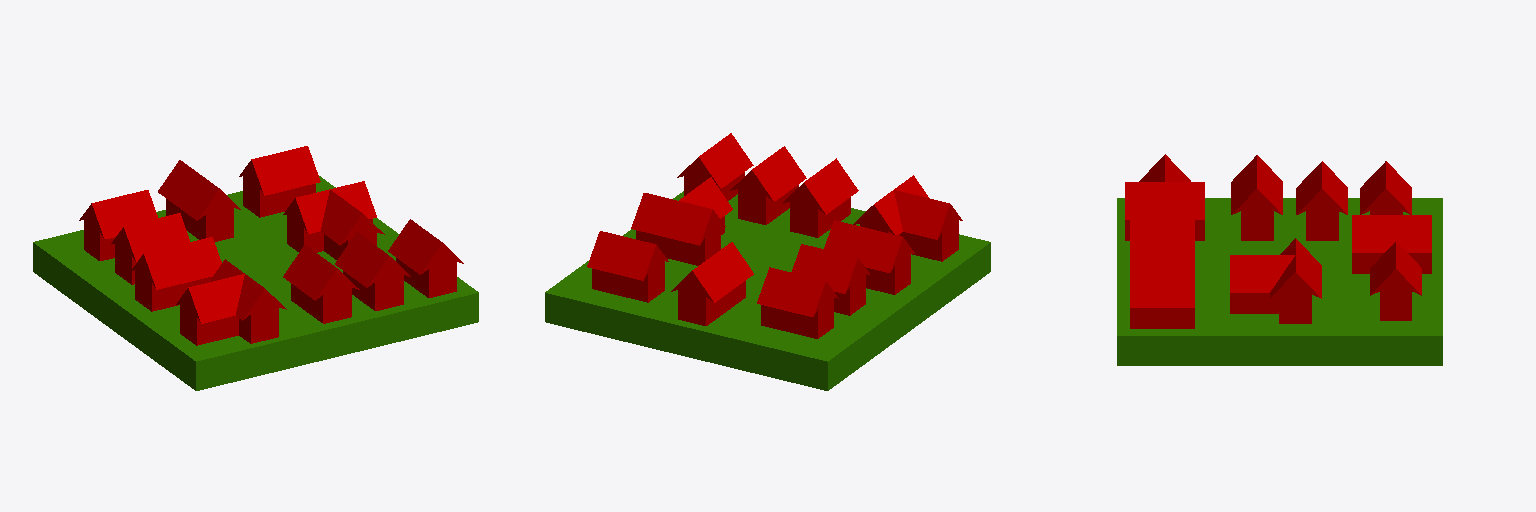
File: House0.obj
3 renders of one model, left to right at view 1: azimuth 30°, elevation 25°; view 2: azimuth 150°, elevation 25°; view 3: azimuth 270°, elevation 25°, orthographic.
Visible parts, largest first — view 1: Tilebase102, Box643, Box638, Box641, Box642, Box645, Box647, Box646, Box648, Box639, Box637, Box644 (+1 smaller); view 2: Tilebase102, Box639, Box638, Box648, Box641, Box643, Box642, Box646, Box645, Box637, Box647, Box644 (+1 smaller); view 3: Tilebase102, Box647, Box641, Box643, Box644, Box640, Box637, Box638, Box639, Box648, Box642, Box646 (+1 smaller).
Boxes of the visible parts, <box> form: Tilebase102: <box>33,176,478,390</box>; Box643: <box>131,237,221,311</box>; Box638: <box>239,146,320,217</box>; Box641: <box>158,160,240,241</box>; Box642: <box>283,245,359,323</box>; Box645: <box>176,274,244,345</box>; Box647: <box>388,219,463,297</box>; Box646: <box>335,232,410,310</box>; Box648: <box>79,190,157,260</box>; Box639: <box>283,181,376,252</box>; Box637: <box>111,213,189,284</box>; Box644: <box>210,259,286,343</box>; Tilebase102: <box>545,191,990,390</box>; Box639: <box>631,193,725,265</box>; Box638: <box>587,231,668,302</box>; Box648: <box>757,267,838,338</box>; Box641: <box>671,242,753,325</box>; Box643: <box>824,220,914,294</box>; Box642: <box>782,158,858,237</box>; Box646: <box>730,146,806,224</box>; Box645: <box>894,190,962,261</box>; Box637: <box>791,244,869,315</box>; Box647: <box>677,133,753,200</box>; Box644: <box>853,175,928,235</box>; Tilebase102: <box>1117,198,1442,365</box>; Box647: <box>1130,270,1194,328</box>; Box641: <box>1352,215,1431,273</box>; Box643: <box>1231,155,1282,240</box>; Box644: <box>1125,182,1204,240</box>; Box640: <box>1230,255,1294,313</box>; Box637: <box>1296,161,1347,240</box>; Box638: <box>1370,241,1421,320</box>; Box639: <box>1270,238,1321,323</box>; Box648: <box>1360,161,1411,214</box>; Box642: <box>1130,218,1194,243</box>; Box646: <box>1130,244,1194,269</box>.
Bounding box in the file's own units: 10 × 2.77 × 10.